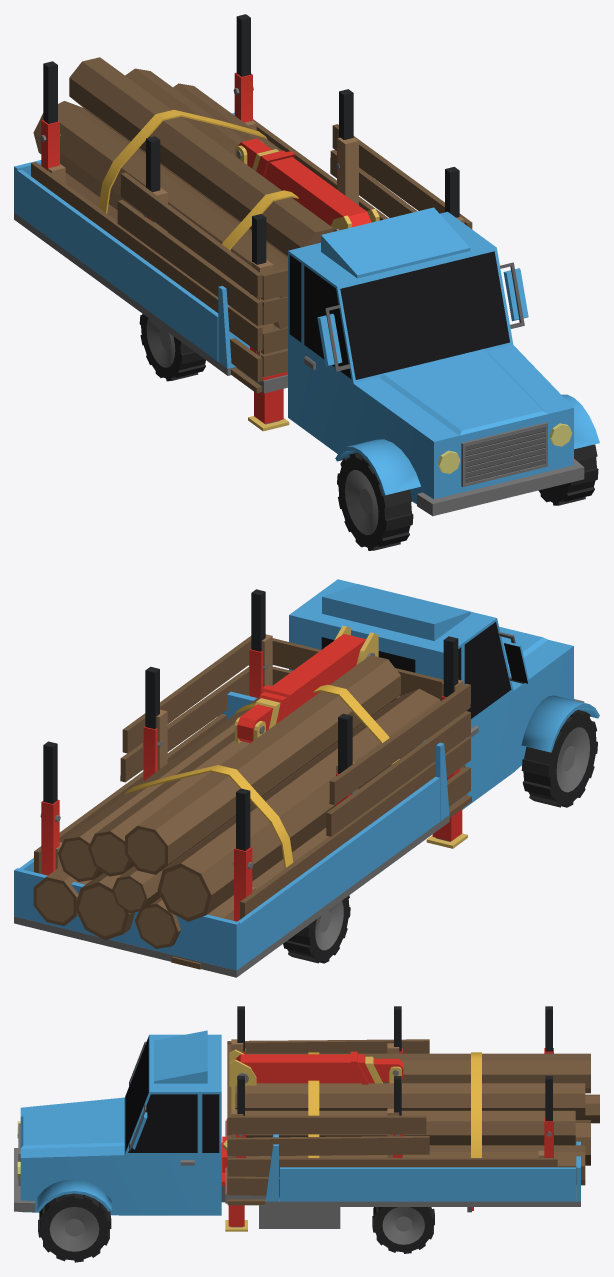
Rendered from Truck_01.fbx.
3 renders of one model, top to bottom at view 1: azimuth 30°, elevation 25°; view 2: azimuth 150°, elevation 25°; view 3: azimuth 270°, elevation 25°, orthographic. The views are drawn at different scales.
Parts seen in each view (by area): view 1: Truck_01, Truck_01_Wood, Truck_01_Wooden_Bed, Truck_01_Crane, Truck_01_Hindcarriage_Wood, Truck_01_Crane_Arrow_Part_01, Truck_01_Wood_Belts; view 2: Truck_01_Wood, Truck_01, Truck_01_Wooden_Bed, Truck_01_Crane, Truck_01_Hindcarriage_Wood, Truck_01_Crane_Arrow_Part_01, Truck_01_Wood_Belts, Truck_01_Crane_Arrow_Part_03, Truck_01_Crane_Arrow_Base; view 3: Truck_01, Truck_01_Wood, Truck_01_Wooden_Bed, Truck_01_Crane, Truck_01_Crane_Arrow_Part_01, Truck_01_Hindcarriage_Wood, Truck_01_Wood_Belts, Truck_01_Crane_Arrow_Base, Truck_01_Crane_Arrow_Part_03.
Boxes of the visible parts, x1=… form: Truck_01: x1=139, y1=207, x2=599, y2=550; Truck_01_Wood: x1=33, y1=57, x2=334, y2=329; Truck_01_Wooden_Bed: x1=31, y1=119, x2=472, y2=393; Truck_01_Crane: x1=14, y1=112, x2=287, y2=423; Truck_01_Hindcarriage_Wood: x1=40, y1=14, x2=459, y2=393; Truck_01_Crane_Arrow_Part_01: x1=256, y1=150, x2=371, y2=227; Truck_01_Wood_Belts: x1=98, y1=109, x2=298, y2=270; Truck_01_Wood: x1=33, y1=655, x2=440, y2=948; Truck_01: x1=283, y1=579, x2=599, y2=963; Truck_01_Wooden_Bed: x1=34, y1=634, x2=471, y2=969; Truck_01_Crane: x1=14, y1=691, x2=462, y2=977; Truck_01_Hindcarriage_Wood: x1=40, y1=589, x2=467, y2=921; Truck_01_Crane_Arrow_Part_01: x1=259, y1=634, x2=365, y2=723; Truck_01_Wood_Belts: x1=125, y1=684, x2=399, y2=868; Truck_01_Crane_Arrow_Part_03: x1=237, y1=704, x2=273, y2=742; Truck_01_Crane_Arrow_Base: x1=334, y1=625, x2=378, y2=665; Truck_01: x1=14, y1=1030, x2=473, y2=1262; Truck_01_Wood: x1=235, y1=1053, x2=599, y2=1185; Truck_01_Wooden_Bed: x1=227, y1=1039, x2=557, y2=1205; Truck_01_Crane: x1=221, y1=1119, x2=580, y2=1226; Truck_01_Crane_Arrow_Part_01: x1=235, y1=1051, x2=374, y2=1084; Truck_01_Hindcarriage_Wood: x1=225, y1=1006, x2=553, y2=1203; Truck_01_Wood_Belts: x1=308, y1=1052, x2=481, y2=1157; Truck_01_Crane_Arrow_Base: x1=223, y1=1049, x2=256, y2=1150; Truck_01_Crane_Arrow_Part_03: x1=373, y1=1058, x2=403, y2=1081.
Size of the model in its own units: 3.24 by 3.41 by 9.95.
